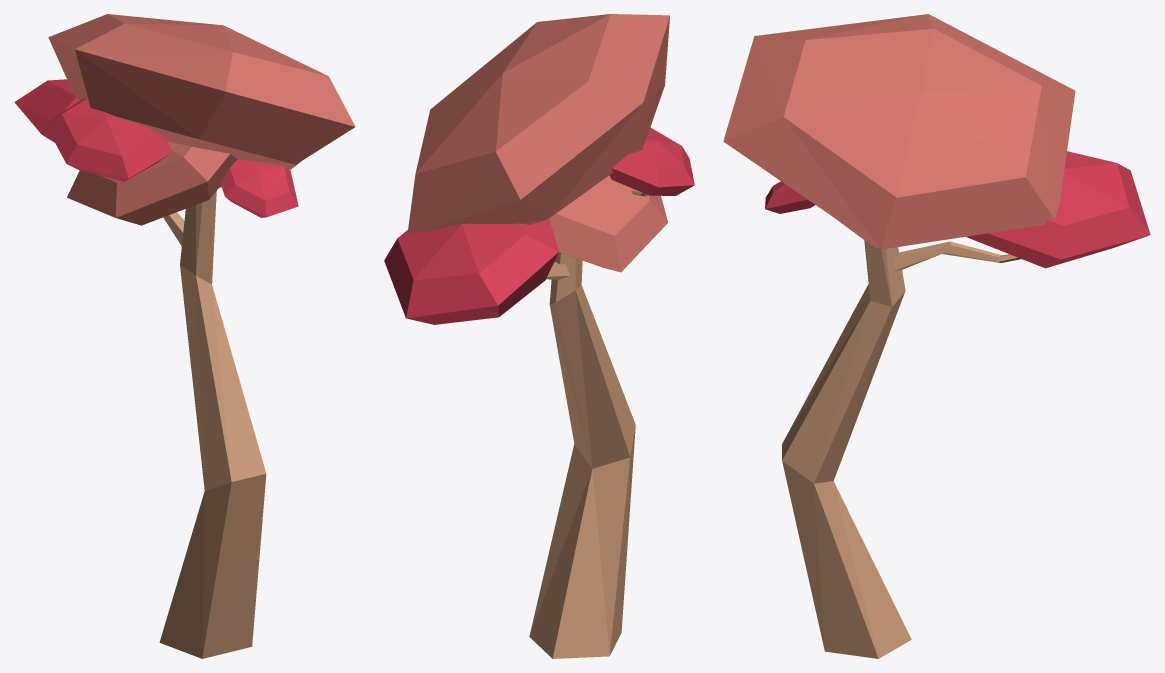
File: Tree2_Rot0.fbx
3 renders of one model, left to right at view 1: azimuth 30°, elevation 25°; view 2: azimuth 150°, elevation 25°; view 3: azimuth 270°, elevation 25°, orthographic.
Parts seen in each view (by area): view 1: Cylinder; view 2: Cylinder; view 3: Cylinder.
Part boxes in pixels (x1,y1,x2,y2): Cylinder: (14, 14, 355, 658); Cylinder: (384, 14, 694, 658); Cylinder: (723, 14, 1150, 658).
Size of the model in its own units: 278 by 595 by 386.
